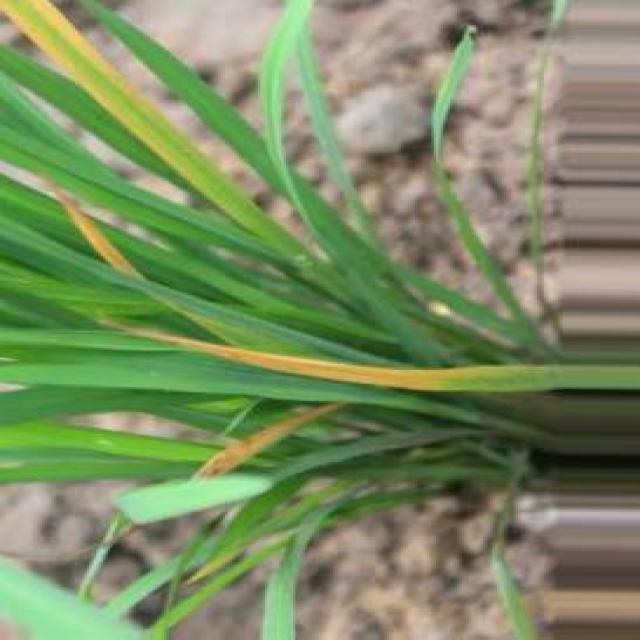Rice Tungro: (1, 0, 298, 253), (118, 327, 640, 392), (193, 404, 340, 478), (59, 196, 139, 276)
